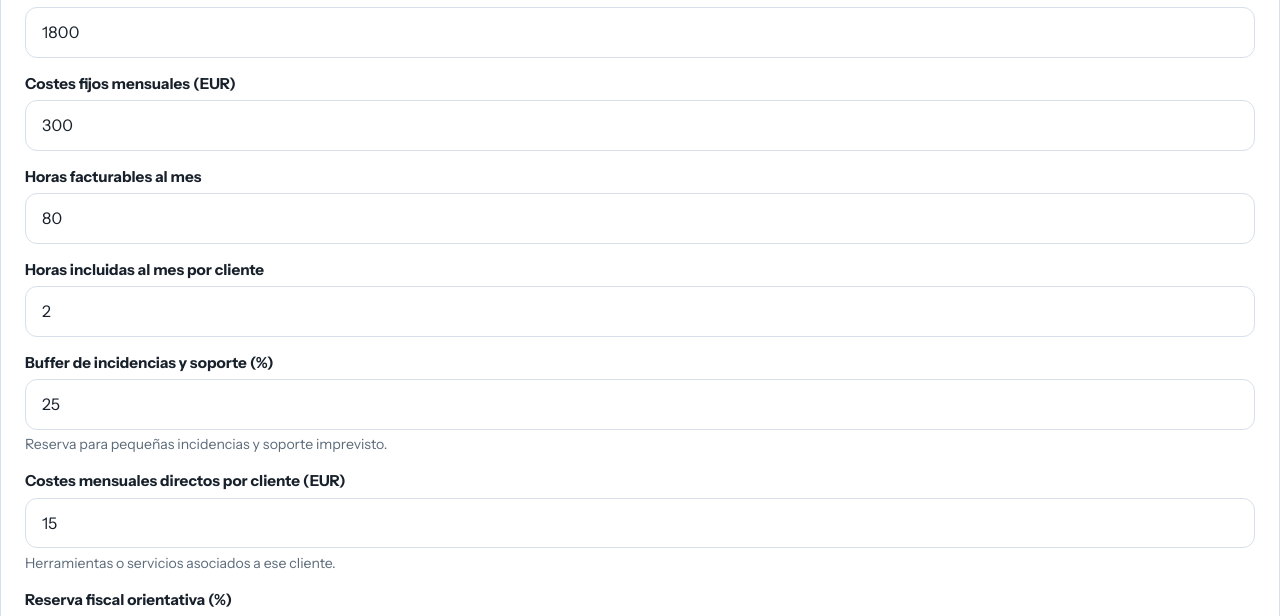
Test: CalculatorForm › shows an error when the monthly target is 0
Step 1. Replace the text in the number field labelled "Objetivo mensual neto (EUR)" with "0" → [640, 32], box [25, 7, 1255, 58]
(page scrolled)
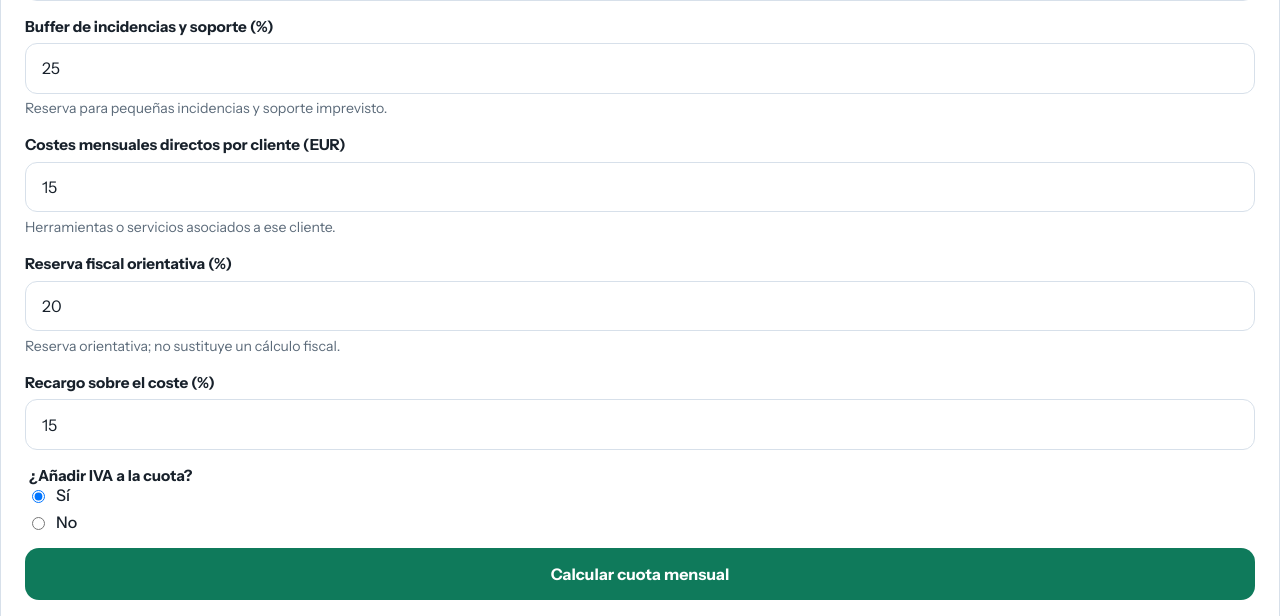
Step 2. Click the button "Calcular cuota mensual" → [640, 574], box [25, 548, 1255, 600]
(page scrolled)
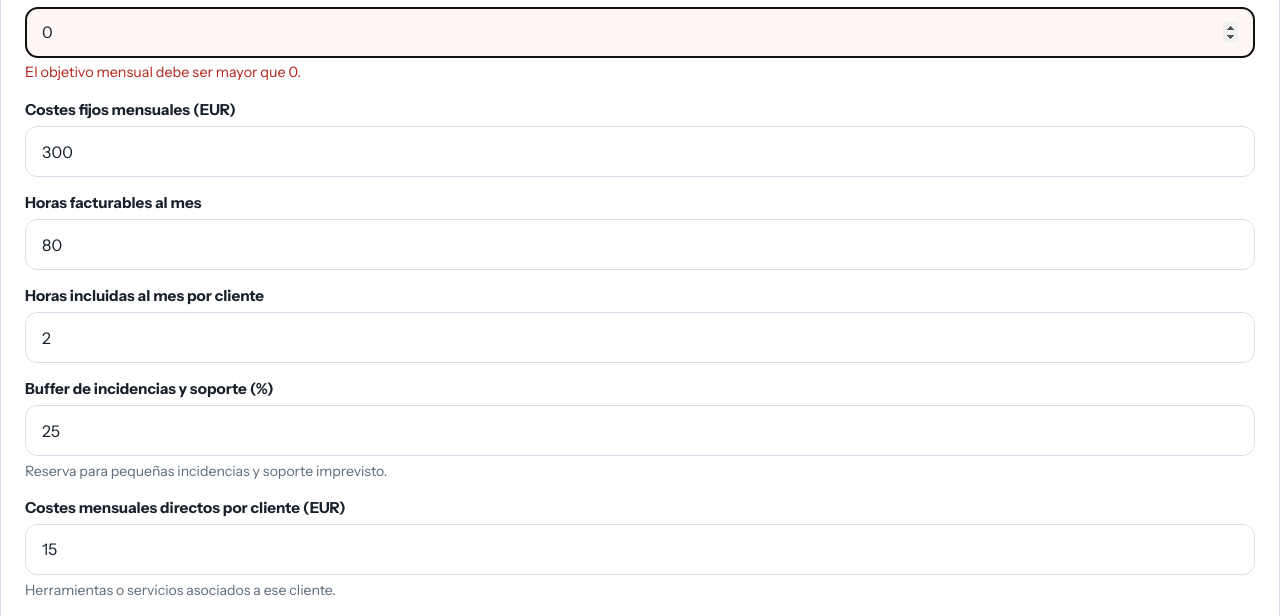
Now the text "El objetivo mensual debe ser mayor que 0." is shown, box [25, 64, 301, 82]
